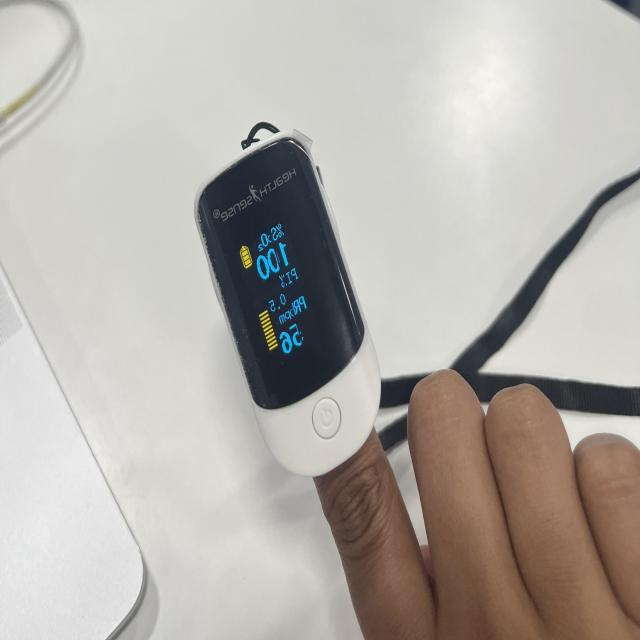spo2: (195, 127, 382, 480)
